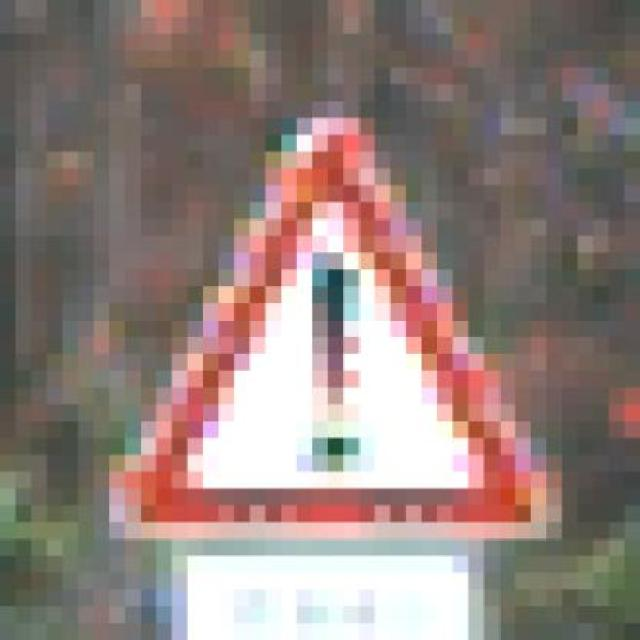Attention Please-: (93, 101, 593, 556)
